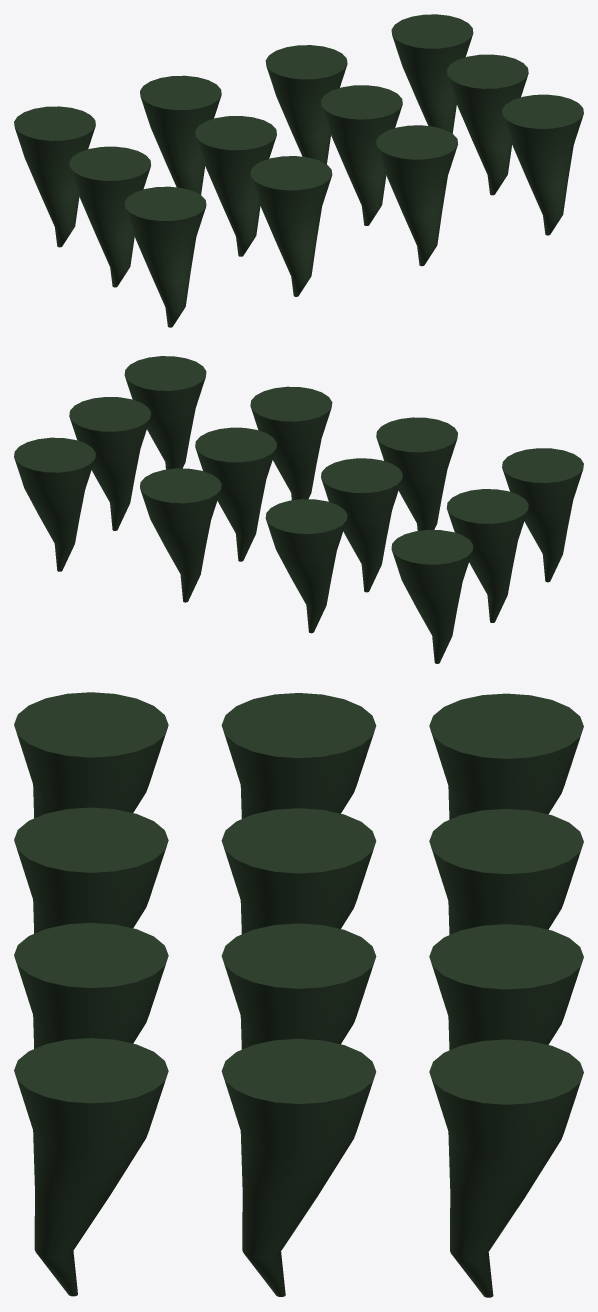
The model's file is toothbrush bristles.fbx.
3 renders of one model, top to bottom at view 1: azimuth 30°, elevation 25°; view 2: azimuth 150°, elevation 25°; view 3: azimuth 270°, elevation 25°, orthographic. The views are drawn at different scales.
Visible parts, largest first — view 1: toothbrush:polySurface2; view 2: toothbrush:polySurface2; view 3: toothbrush:polySurface2.
Part boxes in pixels (left/top/right/bottom): toothbrush:polySurface2: left=14, top=14, right=583, bottom=327; toothbrush:polySurface2: left=14, top=356, right=583, bottom=663; toothbrush:polySurface2: left=14, top=692, right=583, bottom=1297.
Size of the model in its own units: 2.37 by 0.6051 by 1.39.
